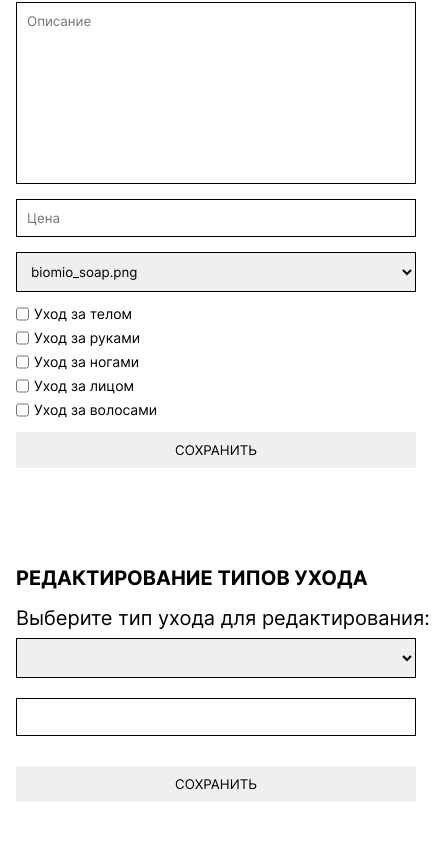
Test: tests › Error shows when saving product with empty fields
(page scrolled)
Step 1. Click the button with test id "admin-save-btn" → coordinates (216, 450), box [16, 432, 416, 468]
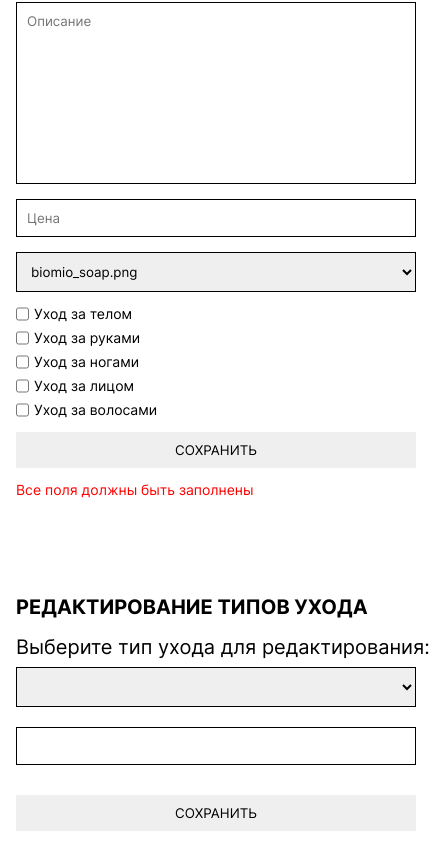
Expected: the text "Все поля должны быть заполнены" is shown, [16, 481, 254, 498]
